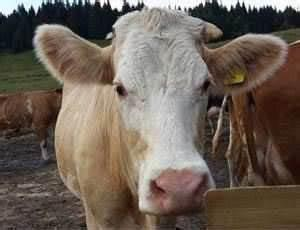cow: (31, 6, 289, 229), (0, 87, 62, 161)
